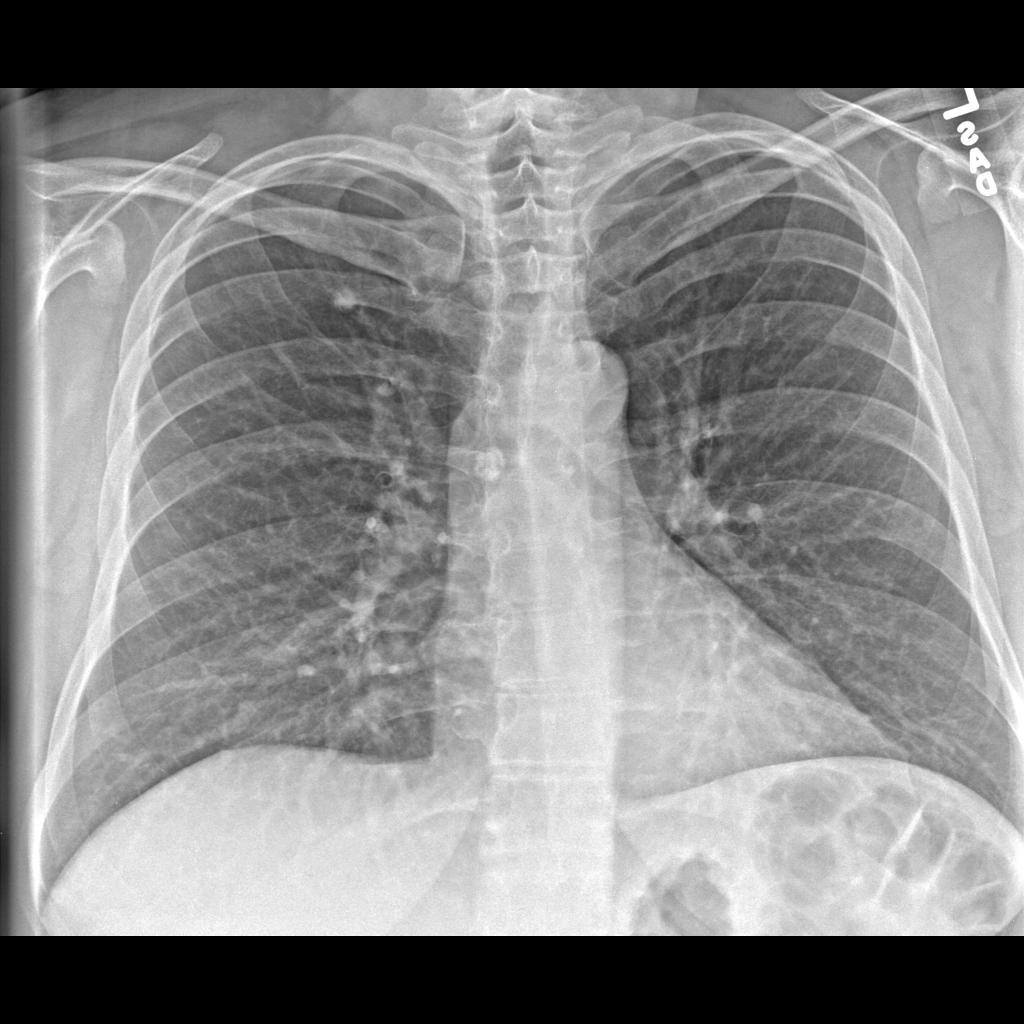Nodule: (320, 281, 365, 325)
